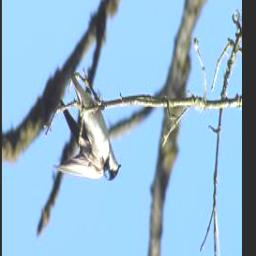Swallow: (52, 66, 122, 185)
